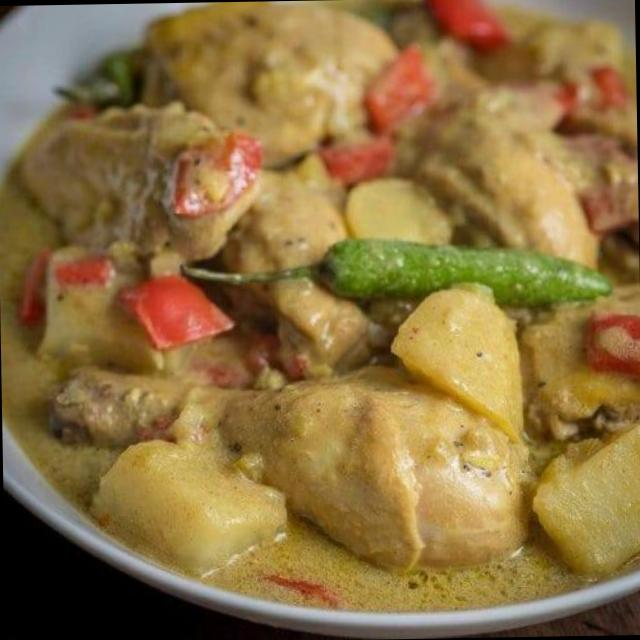chicken: (4, 17, 640, 597)
